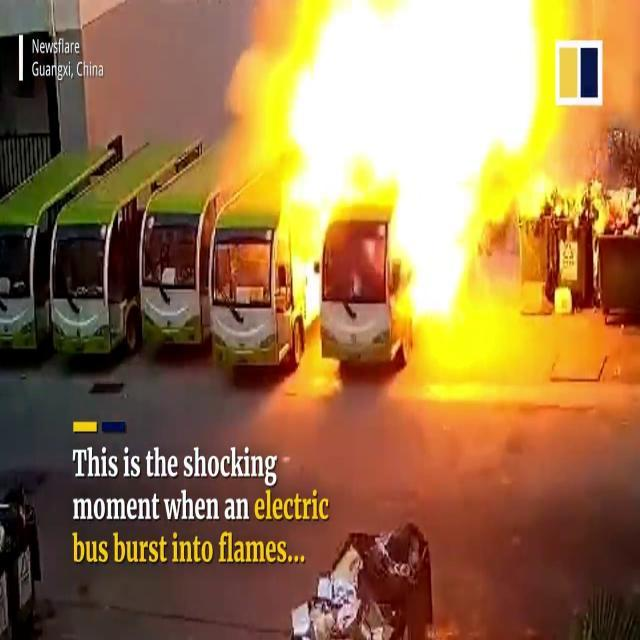Fire: (236, 0, 554, 246)
